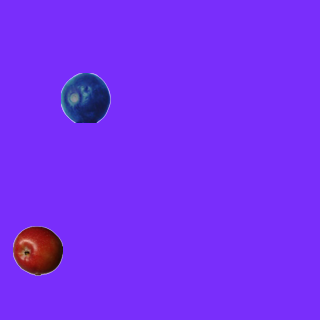Apple Braeburn: (12, 225, 62, 275)
Huckleberry: (60, 72, 110, 122)
